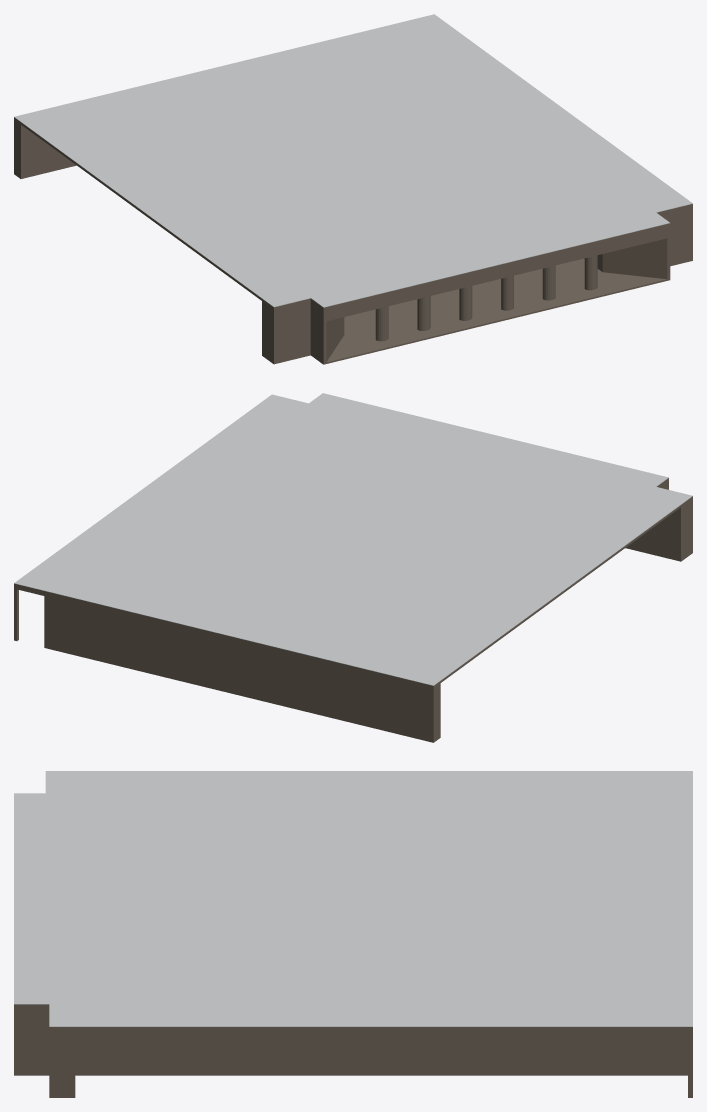
The model's file is Building N Footprint.glb.
The picture shows the model from 3 angles, top to bottom: view 1: azimuth 30°, elevation 25°; view 2: azimuth 150°, elevation 25°; view 3: azimuth 270°, elevation 25°; orthographic projection. The views are drawn at different scales.
Parts seen in each view (by area): view 1: Mesh_Mesh_head_geo.001_lambert2SG.001; view 2: Mesh_Mesh_head_geo.001_lambert2SG.001; view 3: Mesh_Mesh_head_geo.001_lambert2SG.001.
Boxes of the visible parts, x1,y1,x2,y2 form: Mesh_Mesh_head_geo.001_lambert2SG.001: [14, 14, 692, 364]; Mesh_Mesh_head_geo.001_lambert2SG.001: [14, 393, 692, 742]; Mesh_Mesh_head_geo.001_lambert2SG.001: [14, 771, 692, 1097].
Bounding box in the file's own units: 138 × 18 × 155.
